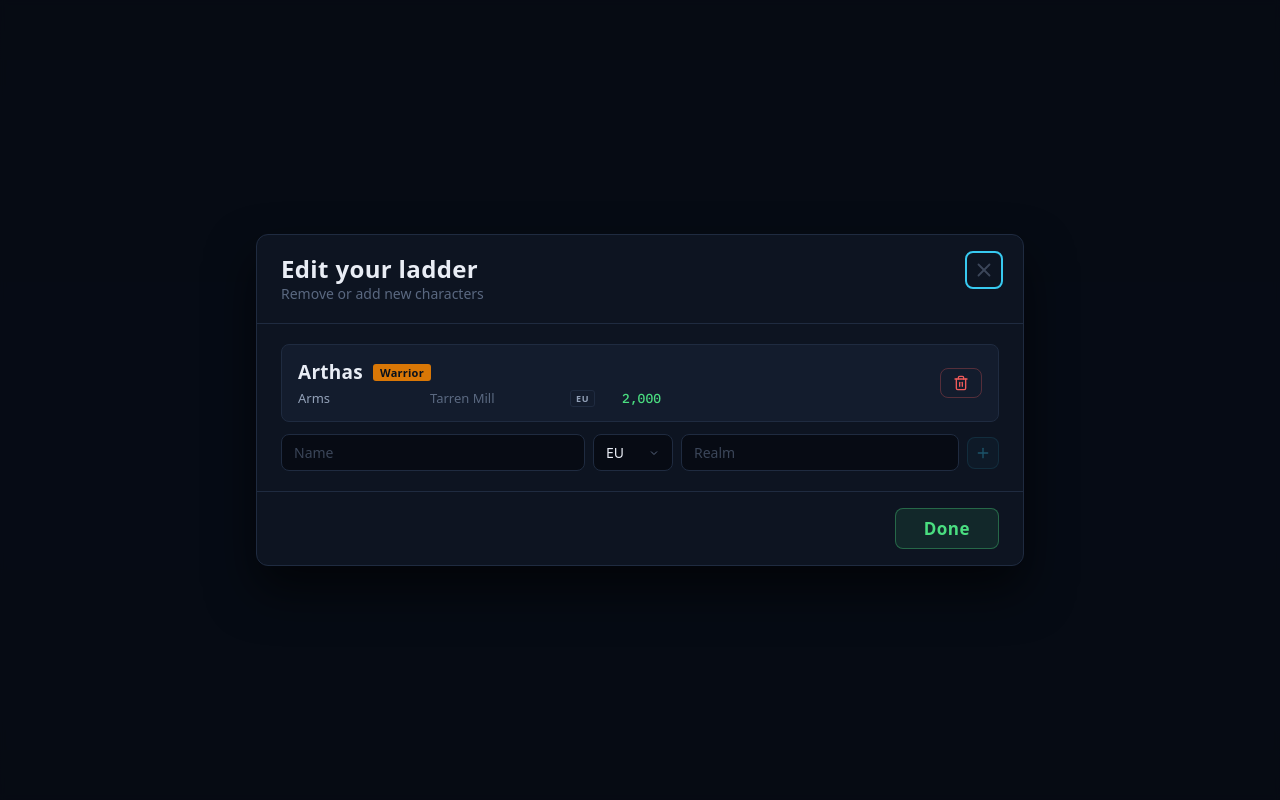
Scenario: EditView › removes a character when Delete is clicked
Click the button named "Delete" at [961, 383], box [940,368,982,398]
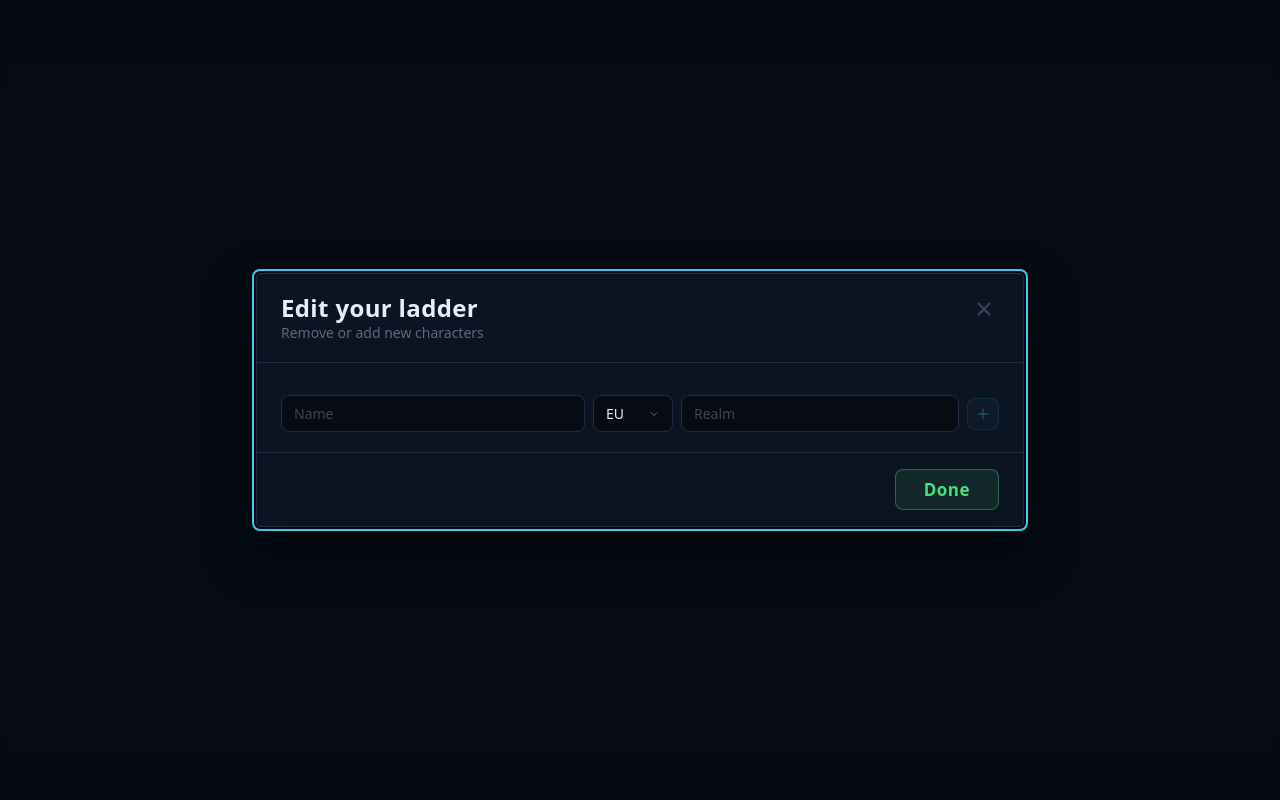
Result: the text "Arthas" is gone
